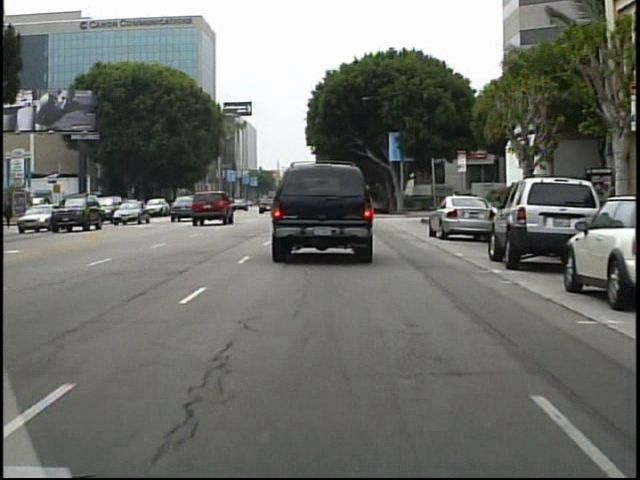person: (501, 177, 524, 227), (446, 187, 465, 227), (4, 199, 20, 231)
